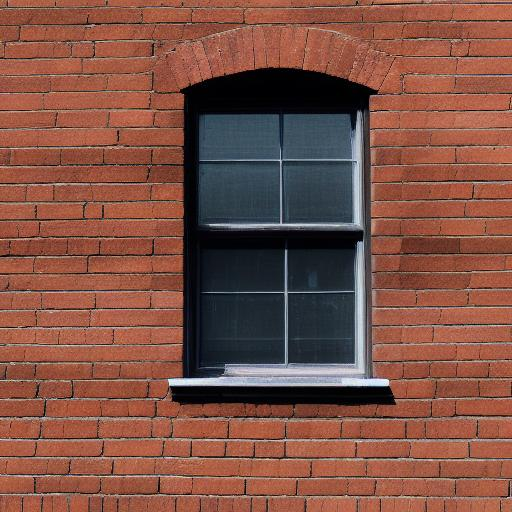Window: (153, 23, 399, 402)
